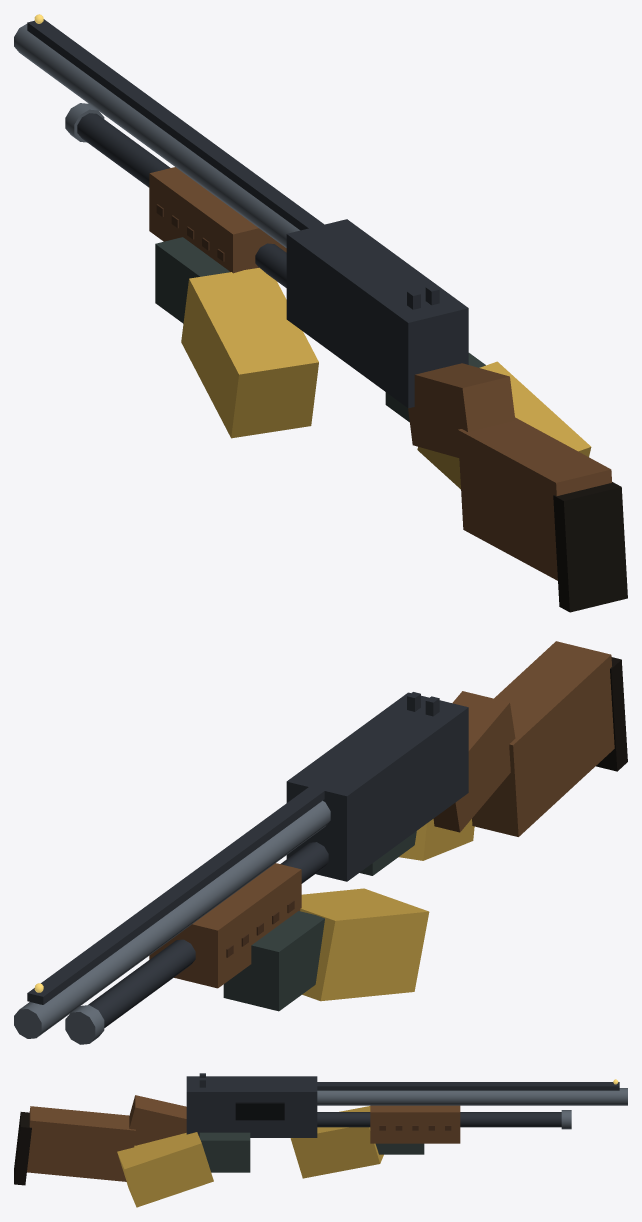
File: pump_shotgun.glb
The picture shows the model from 3 angles, top to bottom: view 1: azimuth 30°, elevation 25°; view 2: azimuth 150°, elevation 25°; view 3: azimuth 270°, elevation 25°; orthographic projection. The views are drawn at different scales.
Visible parts, largest first — view 1: _MeshInstance3D_3336, _MeshInstance3D_3357, _MeshInstance3D_3349, _MeshInstance3D_3350, _MeshInstance3D_3338, _MeshInstance3D_3348, _MeshInstance3D_3342, _MeshInstance3D_3341, _MeshInstance3D_3339, _MeshInstance3D_3356, _MeshInstance3D_3363; view 2: _MeshInstance3D_3336, _MeshInstance3D_3349, _MeshInstance3D_3357, _MeshInstance3D_3338, _MeshInstance3D_3342, _MeshInstance3D_3341, _MeshInstance3D_3356, _MeshInstance3D_3348, _MeshInstance3D_3339, _MeshInstance3D_3350, _MeshInstance3D_3363, _MeshInstance3D_3340 (+1 smaller); view 3: _MeshInstance3D_3336, _MeshInstance3D_3349, _MeshInstance3D_3338, _MeshInstance3D_3363, _MeshInstance3D_3357, _MeshInstance3D_3342, _MeshInstance3D_3341, _MeshInstance3D_3339, _MeshInstance3D_3348, _MeshInstance3D_3362, _MeshInstance3D_3350, _MeshInstance3D_3337 (+2 smaller).
Boxes of the visible parts, x1,y1,x2,y2 form: _MeshInstance3D_3336: [286, 219, 468, 408]; _MeshInstance3D_3357: [181, 267, 318, 438]; _MeshInstance3D_3349: [457, 417, 611, 580]; _MeshInstance3D_3350: [553, 482, 627, 612]; _MeshInstance3D_3338: [14, 24, 299, 247]; _MeshInstance3D_3348: [408, 363, 515, 457]; _MeshInstance3D_3342: [149, 167, 286, 273]; _MeshInstance3D_3341: [27, 19, 324, 230]; _MeshInstance3D_3339: [77, 113, 286, 287]; _MeshInstance3D_3356: [155, 237, 229, 323]; _MeshInstance3D_3363: [417, 361, 591, 489]; _MeshInstance3D_3336: [286, 692, 468, 881]; _MeshInstance3D_3349: [472, 641, 614, 836]; _MeshInstance3D_3357: [300, 888, 429, 1001]; _MeshInstance3D_3338: [14, 800, 330, 1038]; _MeshInstance3D_3342: [149, 863, 301, 988]; _MeshInstance3D_3341: [27, 787, 324, 1004]; _MeshInstance3D_3356: [223, 911, 324, 1011]; _MeshInstance3D_3348: [433, 691, 515, 832]; _MeshInstance3D_3339: [88, 842, 328, 1027]; _MeshInstance3D_3350: [596, 657, 627, 771]; _MeshInstance3D_3363: [399, 819, 474, 860]; _MeshInstance3D_3340: [65, 1005, 104, 1044]; _MeshInstance3D_3336: [186, 1076, 317, 1137]; _MeshInstance3D_3349: [27, 1106, 135, 1181]; _MeshInstance3D_3338: [317, 1088, 627, 1105]; _MeshInstance3D_3363: [117, 1132, 213, 1207]; _MeshInstance3D_3357: [290, 1106, 383, 1178]; _MeshInstance3D_3342: [370, 1105, 460, 1143]; _MeshInstance3D_3341: [317, 1082, 619, 1090]; _MeshInstance3D_3339: [317, 1112, 561, 1127]; _MeshInstance3D_3348: [129, 1095, 186, 1145]; _MeshInstance3D_3362: [199, 1132, 250, 1172]; _MeshInstance3D_3350: [14, 1112, 31, 1185]; _MeshInstance3D_3337: [235, 1102, 284, 1120].
Size of the model in its own units: 0.1445 by 0.1442 by 0.751.
